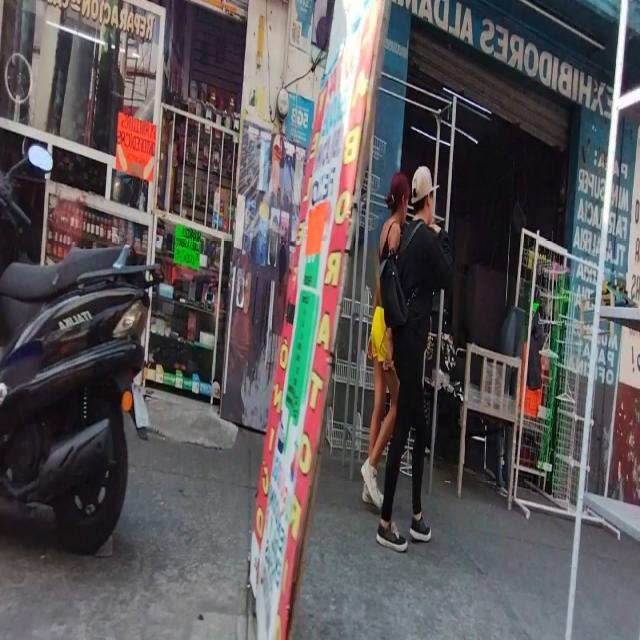adult: (376, 164, 450, 550), (362, 168, 411, 504)
